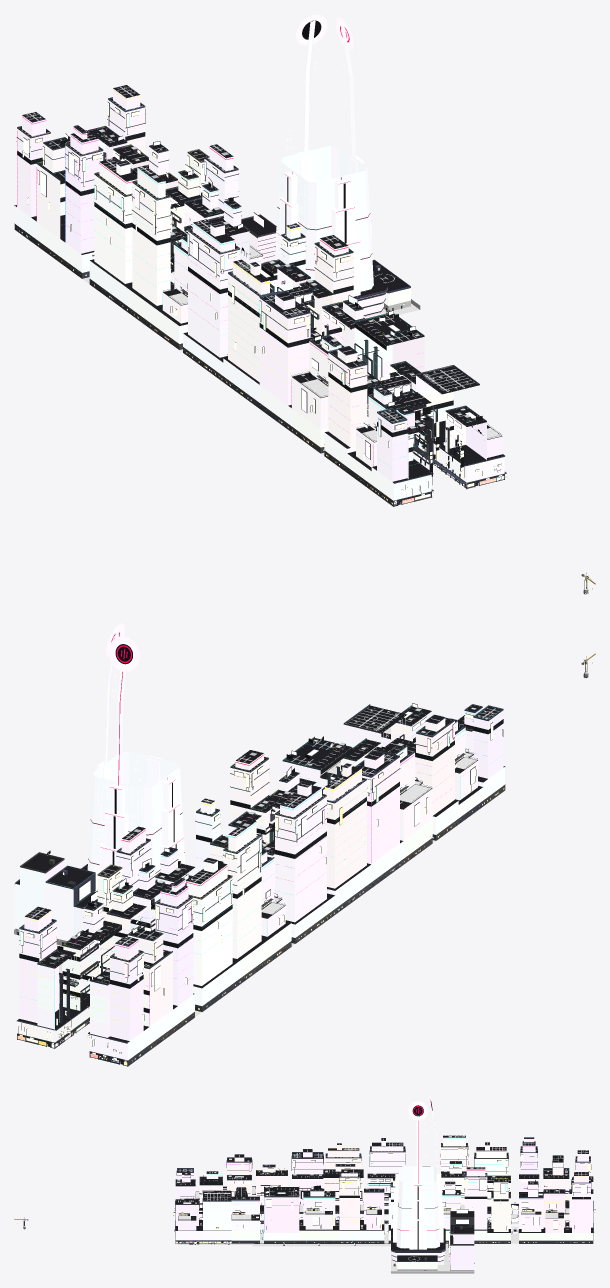
The model's file is world-phone-canyon.glb.
The picture shows the model from 3 angles, top to bottom: view 1: azimuth 30°, elevation 25°; view 2: azimuth 150°, elevation 25°; view 3: azimuth 270°, elevation 25°; orthographic projection. The views are drawn at different scales.
Parts seen in each view (by area): view 1: canyon_b_facade, canyon_b_roof, canyon_b_trim, canyon_b_glow, canyon_b_board_frame, canyon_b_sign, canyon_b_plaster, canyon_b_billboard, canyon_b_metal, canyon_b_sidewalk; view 2: canyon_b_facade, canyon_b_trim, canyon_b_roof, canyon_b_glow, canyon_b_sign, canyon_b_plaster, canyon_b_board_frame, canyon_b_billboard, canyon_b_metal, canyon_b_sidewalk; view 3: canyon_b_facade, canyon_b_roof, canyon_b_trim, canyon_b_glow, canyon_b_sidewalk, canyon_b_plaster, canyon_b_billboard, canyon_b_board_frame, canyon_b_sign, canyon_b_metal, canyon_b_concrete.
Part boxes in pixels (left/top/right/bottom): canyon_b_facade: left=15, top=88, right=504, bottom=500; canyon_b_roof: left=15, top=85, right=504, bottom=482; canyon_b_trim: left=14, top=20, right=506, bottom=506; canyon_b_glow: left=21, top=14, right=503, bottom=505; canyon_b_board_frame: left=22, top=102, right=501, bottom=495; canyon_b_sign: left=22, top=102, right=502, bottom=503; canyon_b_plaster: left=15, top=224, right=393, bottom=506; canyon_b_billboard: left=23, top=134, right=501, bottom=479; canyon_b_metal: left=24, top=85, right=500, bottom=492; canyon_b_sidewalk: left=82, top=246, right=507, bottom=477; canyon_b_facade: left=15, top=708, right=504, bottom=1060; canyon_b_trim: left=15, top=644, right=505, bottom=1066; canyon_b_roof: left=16, top=705, right=504, bottom=1042; canyon_b_glow: left=21, top=623, right=498, bottom=1062; canyon_b_sign: left=18, top=714, right=503, bottom=1061; canyon_b_plaster: left=128, top=785, right=504, bottom=1065; canyon_b_board_frame: left=18, top=703, right=503, bottom=1061; canyon_b_billboard: left=55, top=703, right=475, bottom=1059; canyon_b_metal: left=28, top=710, right=493, bottom=1059; canyon_b_sidewalk: left=59, top=727, right=476, bottom=1016; canyon_b_facade: left=175, top=1137, right=593, bottom=1269; canyon_b_roof: left=175, top=1135, right=593, bottom=1261; canyon_b_trim: left=175, top=1102, right=593, bottom=1270; canyon_b_glow: left=176, top=1095, right=592, bottom=1261; canyon_b_sidewalk: left=177, top=1187, right=569, bottom=1270; canyon_b_plaster: left=199, top=1211, right=593, bottom=1243; canyon_b_billboard: left=178, top=1160, right=586, bottom=1245; canyon_b_board_frame: left=173, top=1146, right=595, bottom=1263; canyon_b_sign: left=173, top=1148, right=595, bottom=1262; canyon_b_metal: left=177, top=1136, right=591, bottom=1244; canyon_b_concrete: left=221, top=1222, right=474, bottom=1273.
Bounding box in the file's own units: 178 × 217 × 724.
